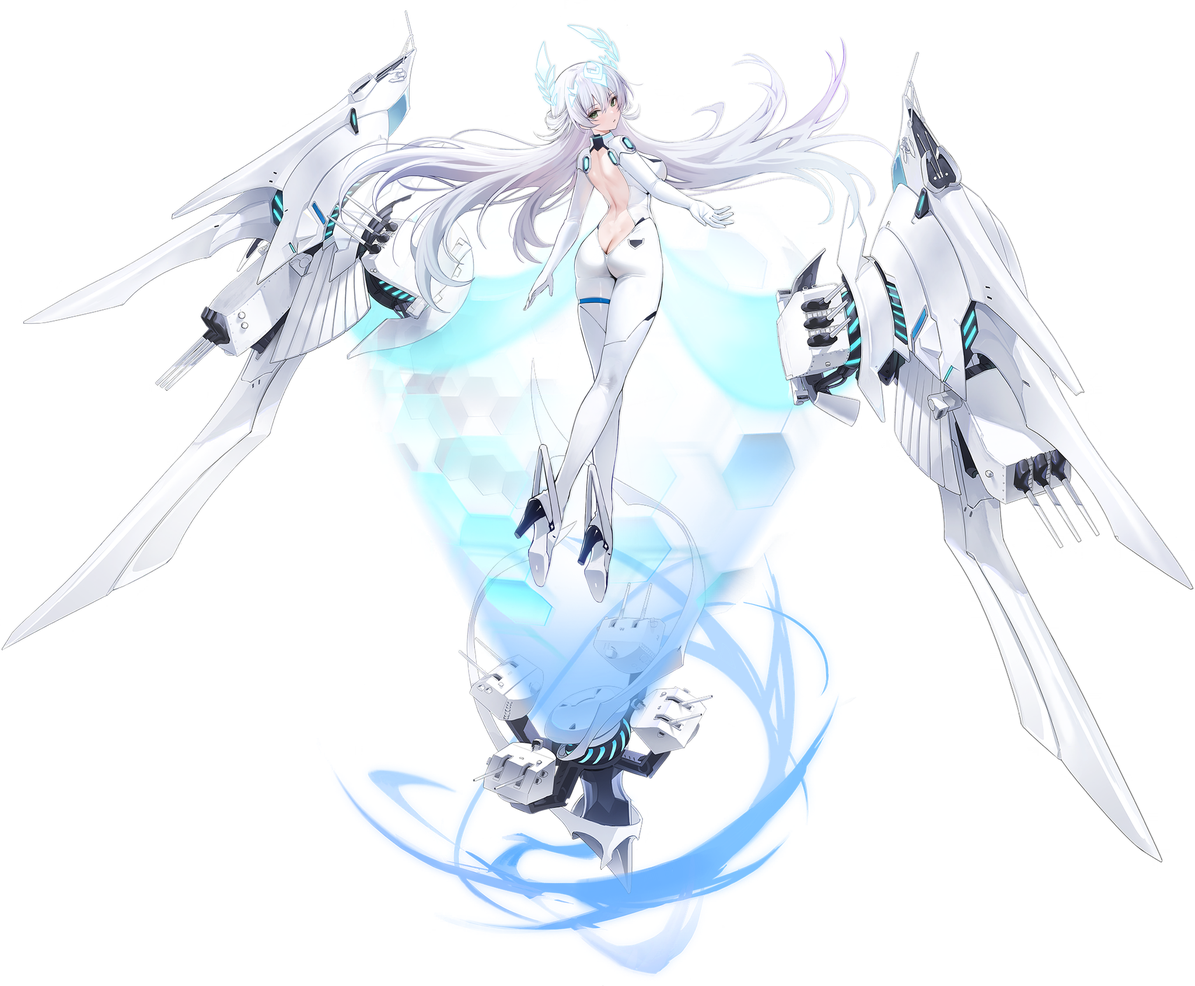person: (445, 3, 799, 739)
